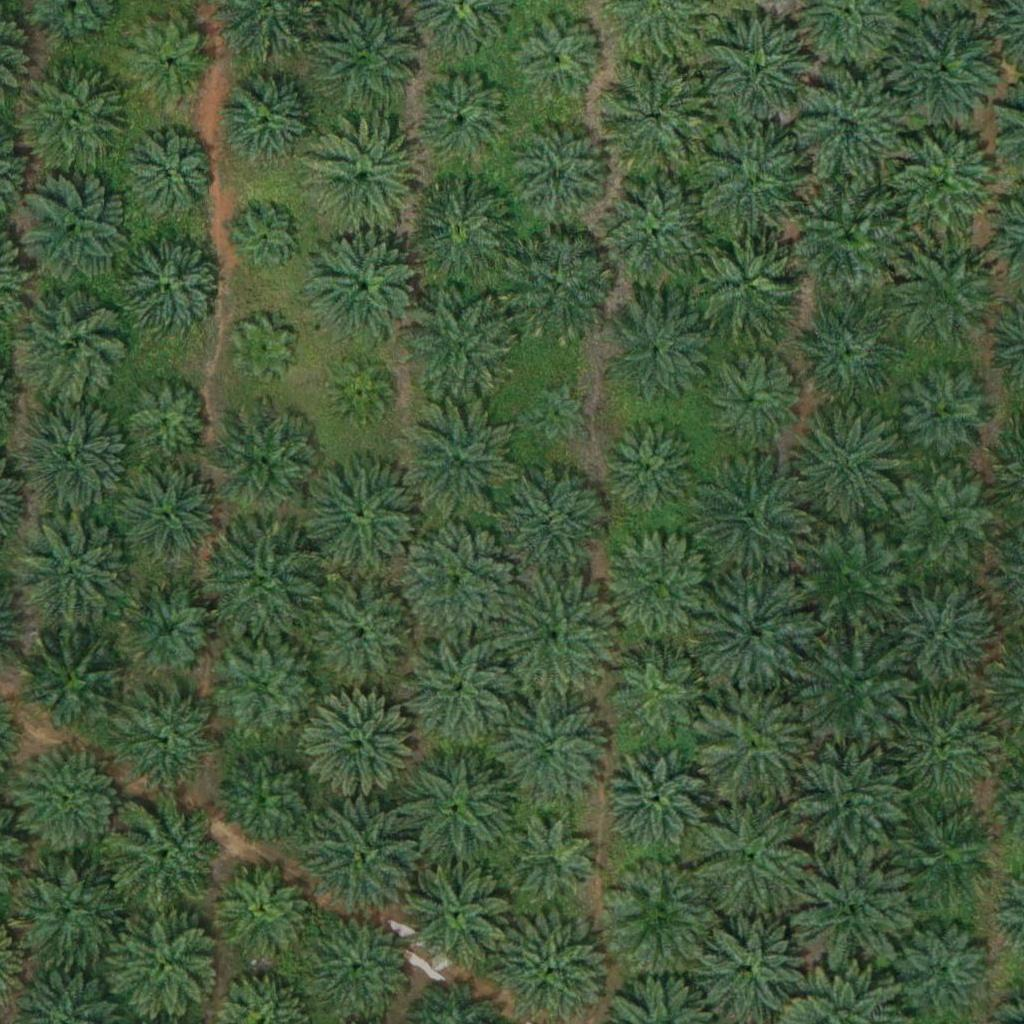Kelapa_Sawit: (790, 518, 903, 632), (696, 454, 809, 568), (602, 298, 715, 412), (21, 626, 134, 740), (13, 744, 126, 858), (111, 797, 224, 911), (108, 908, 221, 1022), (797, 628, 910, 742), (214, 61, 327, 174), (306, 123, 419, 236), (595, 60, 708, 173), (887, 8, 1000, 121), (889, 129, 1002, 242), (700, 128, 813, 241), (691, 227, 804, 340), (696, 576, 809, 689), (600, 179, 713, 292), (399, 400, 512, 513), (403, 523, 516, 636), (308, 234, 421, 347), (305, 460, 418, 573), (13, 289, 126, 402), (17, 402, 130, 515), (18, 517, 131, 630), (9, 857, 122, 970), (305, 690, 418, 803), (398, 635, 511, 748), (401, 749, 514, 862), (402, 854, 515, 967), (697, 689, 810, 802), (792, 748, 905, 861), (794, 854, 907, 967), (408, 64, 520, 178), (885, 579, 997, 693), (502, 233, 614, 347), (405, 176, 517, 290), (893, 687, 1005, 801), (15, 61, 127, 174), (703, 15, 815, 128), (792, 70, 904, 183), (891, 240, 1003, 353), (794, 180, 906, 293), (790, 292, 902, 405), (792, 404, 904, 517), (603, 531, 715, 644), (497, 465, 609, 578), (499, 578, 611, 691), (408, 289, 520, 402), (305, 579, 417, 692), (209, 406, 321, 519), (208, 528, 320, 641), (117, 233, 229, 346), (111, 464, 223, 577), (17, 174, 129, 287), (303, 803, 415, 916), (493, 696, 605, 809), (605, 859, 717, 972), (699, 801, 811, 914), (697, 907, 809, 1020), (890, 802, 1002, 915), (897, 366, 997, 467), (897, 469, 997, 570), (119, 581, 219, 682), (219, 636, 319, 737), (220, 746, 320, 847), (504, 814, 604, 915), (608, 636, 708, 737), (604, 747, 704, 848), (894, 919, 994, 1020), (511, 125, 611, 225), (701, 348, 801, 448), (599, 417, 699, 517), (122, 686, 222, 786), (218, 861, 318, 961), (126, 134, 214, 222), (123, 374, 211, 462), (126, 18, 213, 106), (517, 15, 604, 103), (329, 361, 392, 424), (237, 207, 300, 270), (232, 318, 295, 381), (526, 381, 588, 444)
